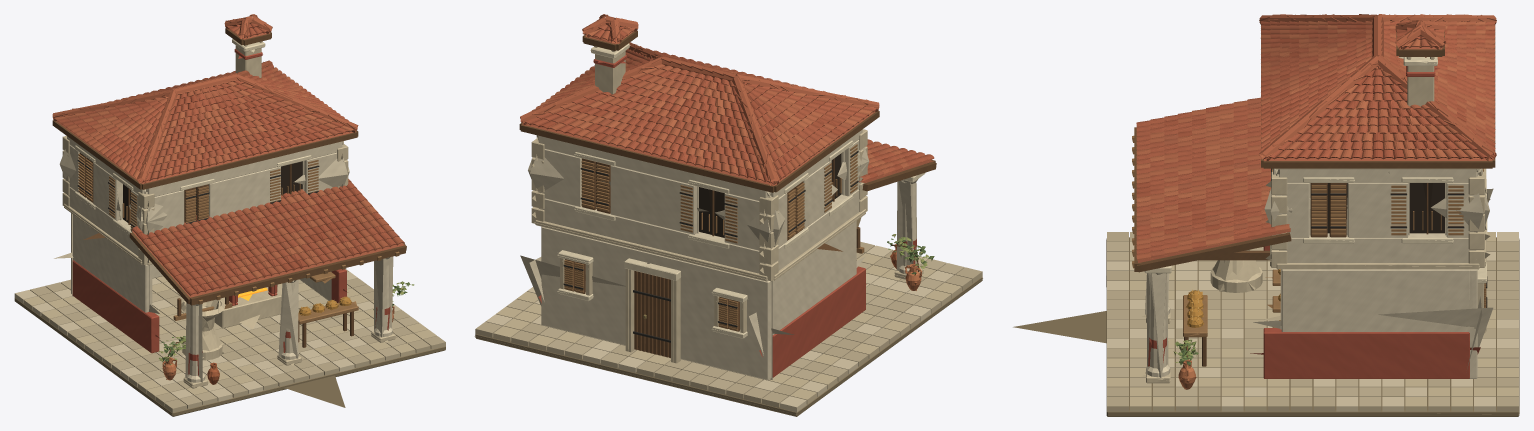
File: baeckerei.glb
The picture shows the model from 3 angles, left to right: view 1: azimuth 30°, elevation 25°; view 2: azimuth 150°, elevation 25°; view 3: azimuth 270°, elevation 25°; orthographic projection. The views are drawn at different scales.
Visible parts, largest first — view 1: Tile_0.001, Limewash.001, Tile_1.001, Paving_3.001, Paving_1.001, Oak.001, Paving_0.001, Tile_5.001, Travertine.001, Paving_2.001, Pompeian_red.001, Limewash.002 (+18 smaller); view 2: Limewash.001, Tile_0.001, Oak.001, Travertine.001, Tile_1.001, Paving_1.001, Paving_3.001, Paving_0.001, Oak_edge.001, Tile_5.001, Pompeian_red.001, Paving_2.001 (+14 smaller); view 3: Limewash.001, Tile_0.001, Tile_1.001, Pompeian_red.001, Paving_1.001, Paving_3.001, Paving_0.001, Tile_5.001, Paving_2.001, Oak.001, Travertine.001, Earth.001 (+17 smaller).
Part boxes in pixels (x1,y1,x2,y2): Tile_0.001: (58, 23, 397, 295); Limewash.001: (67, 136, 392, 382); Tile_1.001: (52, 14, 404, 282); Paving_3.001: (50, 269, 419, 408); Paving_1.001: (30, 278, 445, 413); Oak.001: (52, 28, 406, 364); Paving_0.001: (23, 276, 436, 399); Tile_5.001: (64, 27, 382, 284); Travertine.001: (62, 41, 395, 388); Paving_2.001: (14, 271, 401, 401); Pompeian_red.001: (72, 49, 390, 360); Limewash.002: (72, 141, 393, 382); Limewash.001: (536, 129, 919, 380); Tile_0.001: (520, 26, 934, 184); Oak.001: (519, 30, 936, 358); Travertine.001: (531, 46, 923, 363); Tile_1.001: (520, 14, 906, 185); Paving_1.001: (475, 241, 982, 407); Paving_3.001: (506, 259, 964, 394); Paving_0.001: (493, 253, 961, 404); Oak_edge.001: (564, 144, 864, 331); Tile_5.001: (546, 28, 909, 181); Pompeian_red.001: (593, 55, 916, 377); Paving_2.001: (485, 245, 954, 412); Limewash.001: (1146, 168, 1482, 378); Tile_0.001: (1136, 21, 1495, 253); Tile_1.001: (1136, 14, 1496, 260); Pompeian_red.001: (1149, 66, 1469, 378); Paving_1.001: (1107, 232, 1518, 411); Paving_3.001: (1107, 241, 1518, 411); Paving_0.001: (1107, 232, 1518, 411); Tile_5.001: (1136, 25, 1495, 245); Paving_2.001: (1107, 232, 1518, 411); Oak.001: (1134, 27, 1495, 366); Travertine.001: (1146, 57, 1485, 383); Earth.001: (1106, 237, 1519, 416).
Bounding box in the file's own units: 9.21 × 8.49 × 11.3.
Materials: 29 (8 with a texture image).
